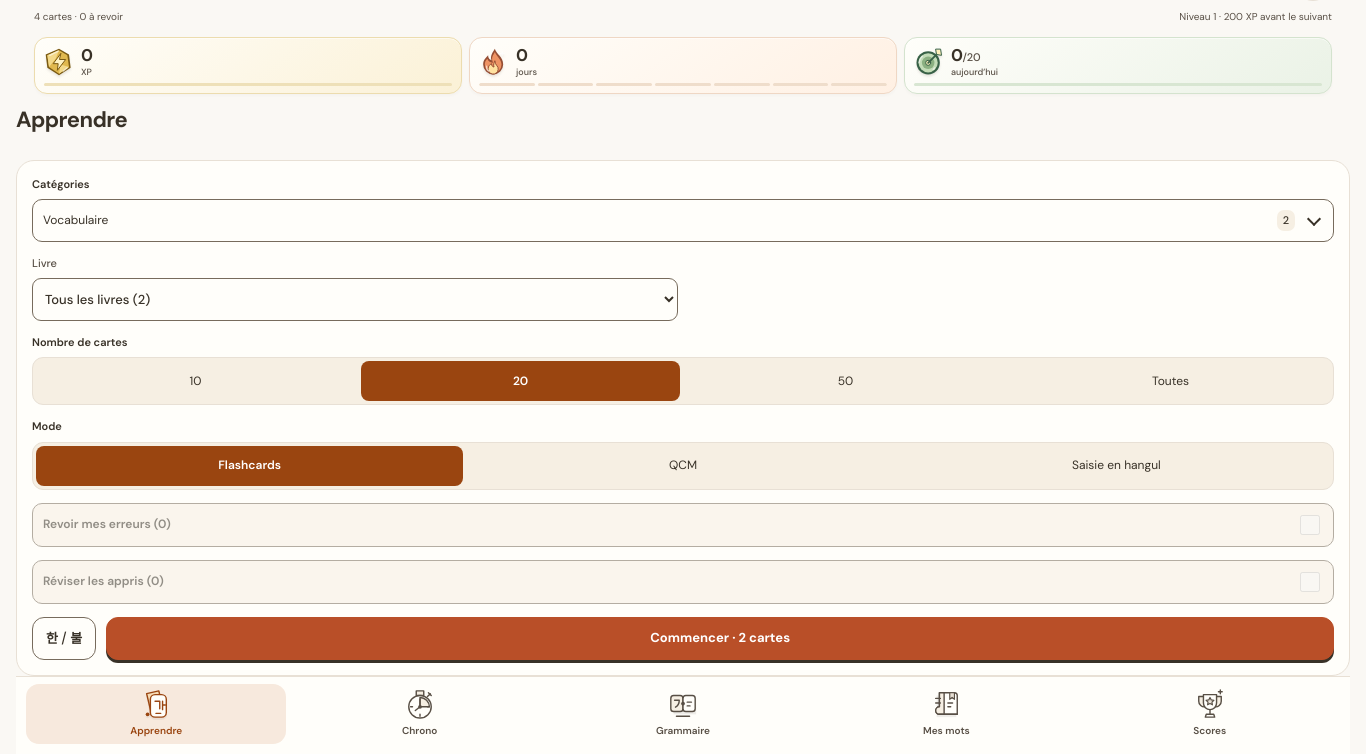
Test: dynamic book filter › uses the supplied catalogue order and shows all counts including zero
The image size is (1366, 754).
(page scrolled)
Click the button "Mes mots": (946, 714) x1=816 y1=684 x2=1077 y2=744
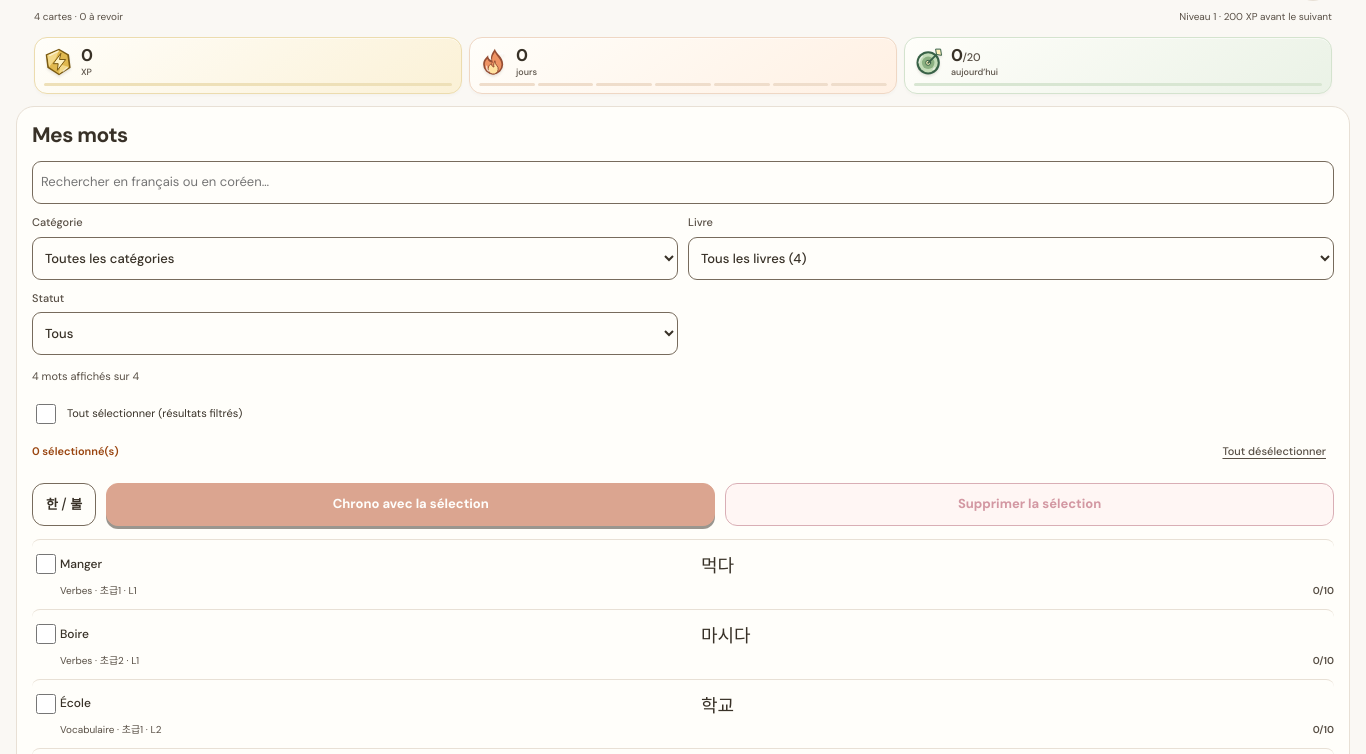
Expected: the dropdown labelled "Livre" shows "Tous les livres (4)", x1=688 y1=237 x2=1334 y2=280
